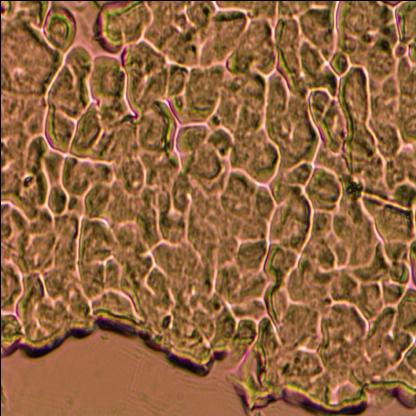Stage I: (0, 0, 416, 390)
